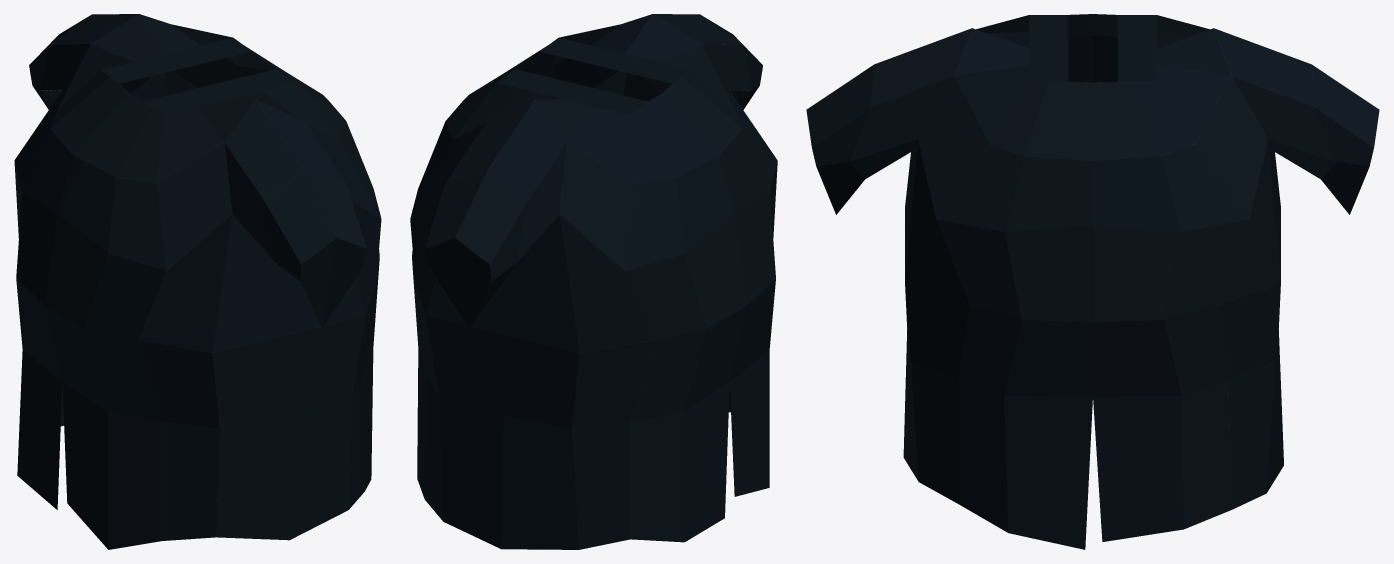
The model's file is ropaMuerte.obj.
3 renders of one model, left to right at view 1: azimuth 30°, elevation 25°; view 2: azimuth 150°, elevation 25°; view 3: azimuth 270°, elevation 25°, orthographic. The views are drawn at different scales.
Parts seen in each view (by area): view 1: diabloTraje.002; view 2: diabloTraje.002; view 3: diabloTraje.002.
Part boxes in pixels (box(x1,y1,x2,y2)): diabloTraje.002: box(14, 14, 381, 549); diabloTraje.002: box(410, 14, 777, 549); diabloTraje.002: box(806, 14, 1379, 549).
Size of the model in its own units: 1.62 by 2.22 by 2.54.
1 material, 1 textured.
